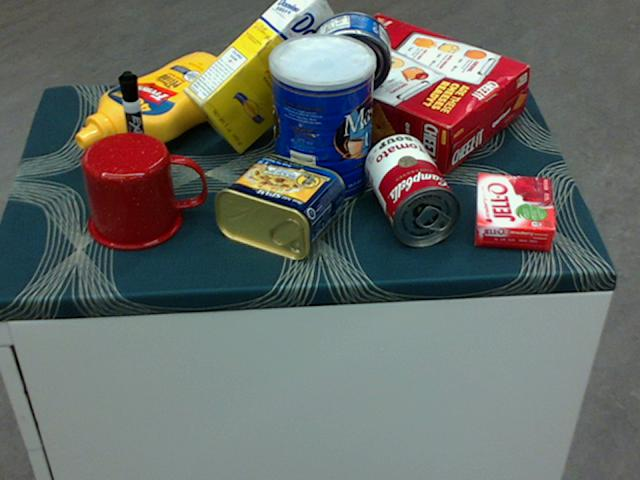cracker_box: (291, 12, 526, 175)
gelatin_box: (473, 173, 555, 248)
large_marker: (116, 71, 151, 180)
master_chef_can: (268, 34, 374, 205)
mug: (82, 131, 205, 250)
mustard_bottle: (74, 52, 241, 151)
potted_meat_can: (212, 154, 343, 259)
sugar_box: (180, 0, 352, 155)
tomato_soup_can: (365, 133, 459, 245)
tuna_fish_can: (310, 10, 391, 95)
